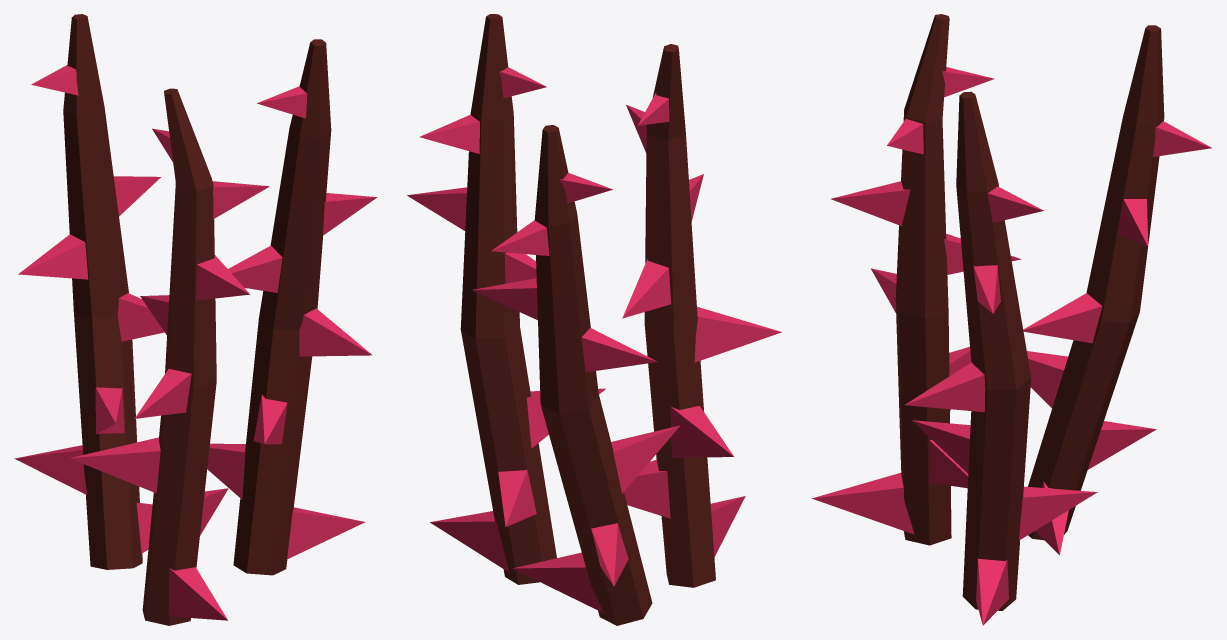
Rendered from desertPlant3.fbx.
3 renders of one model, left to right at view 1: azimuth 30°, elevation 25°; view 2: azimuth 150°, elevation 25°; view 3: azimuth 270°, elevation 25°, orthographic. The views are drawn at different scales.
Parts seen in each view (by area): view 1: SpikyPlant; view 2: SpikyPlant; view 3: SpikyPlant.
Boxes of the visible parts, x1=… form: SpikyPlant: x1=14, y1=14, x2=377, y2=625; SpikyPlant: x1=407, y1=14, x2=781, y2=625; SpikyPlant: x1=812, y1=14, x2=1211, y2=625.
Size of the model in its own units: 400 by 640 by 439.
